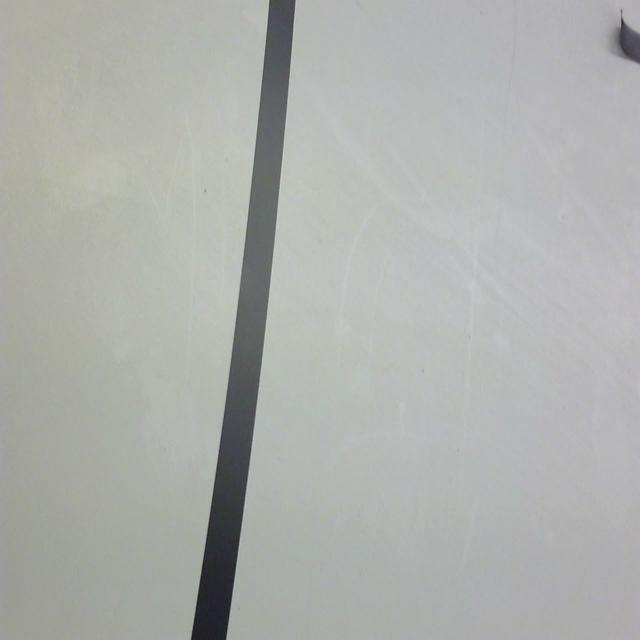tape: (172, 0, 306, 640)
